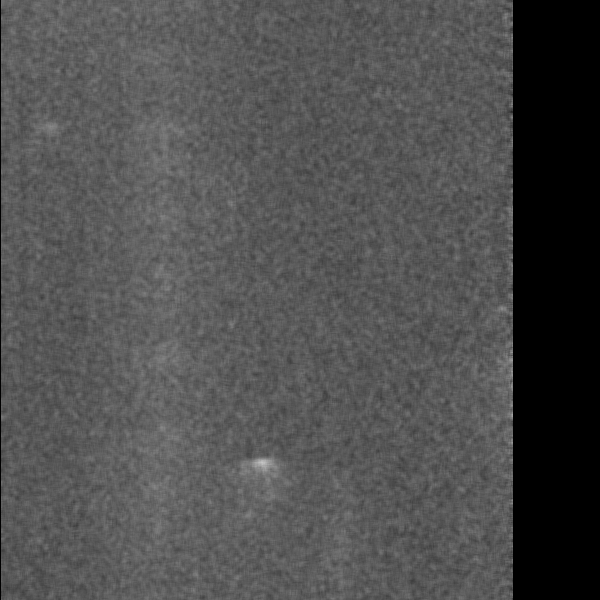spark: (238, 452, 283, 494), (29, 118, 70, 145), (152, 341, 172, 372), (147, 419, 177, 436), (140, 480, 171, 494)
